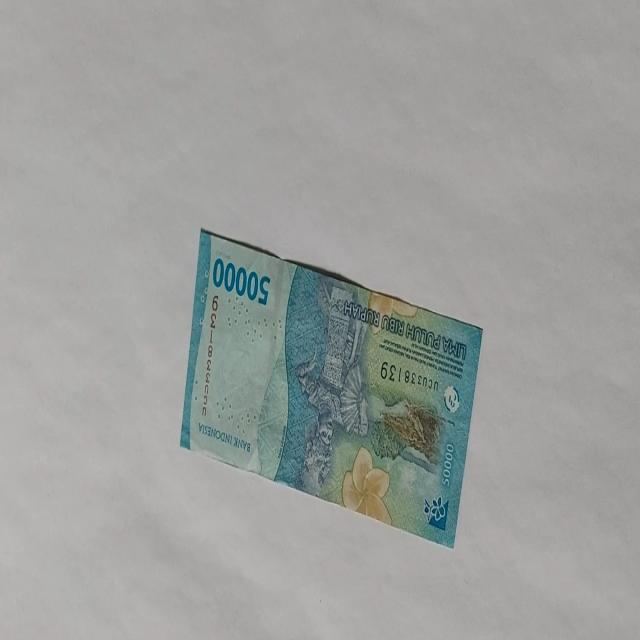lima puluh ribu rupiah: (178, 226, 484, 550), (211, 256, 271, 306)
